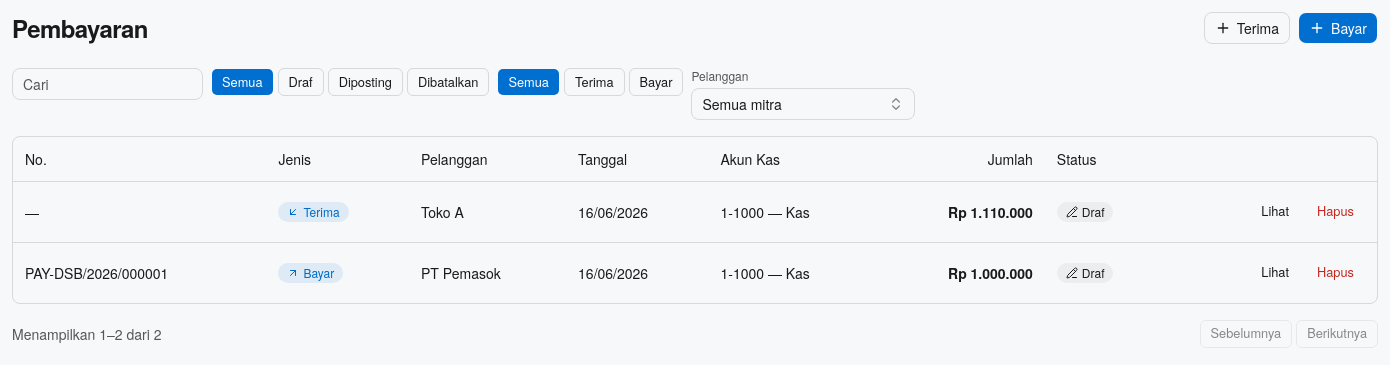
Test: filters by direction and shows both create buttons
Check: the text "Toko A" is shown, box [409,181,566,242]
Check: the text "PT Pemasok" is shown, box [409,242,566,302]
Step 1. Click the button "Bayar" → (656,82), box [628,68,683,96]
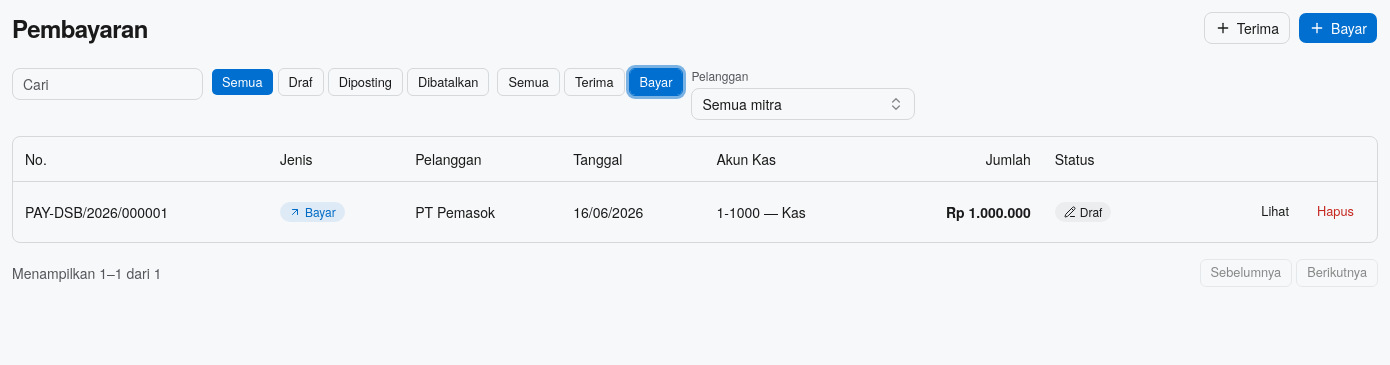
Check: the text "PT Pemasok" is shown, box [403,181,561,242]
Check: the text "Toko A" is gone
